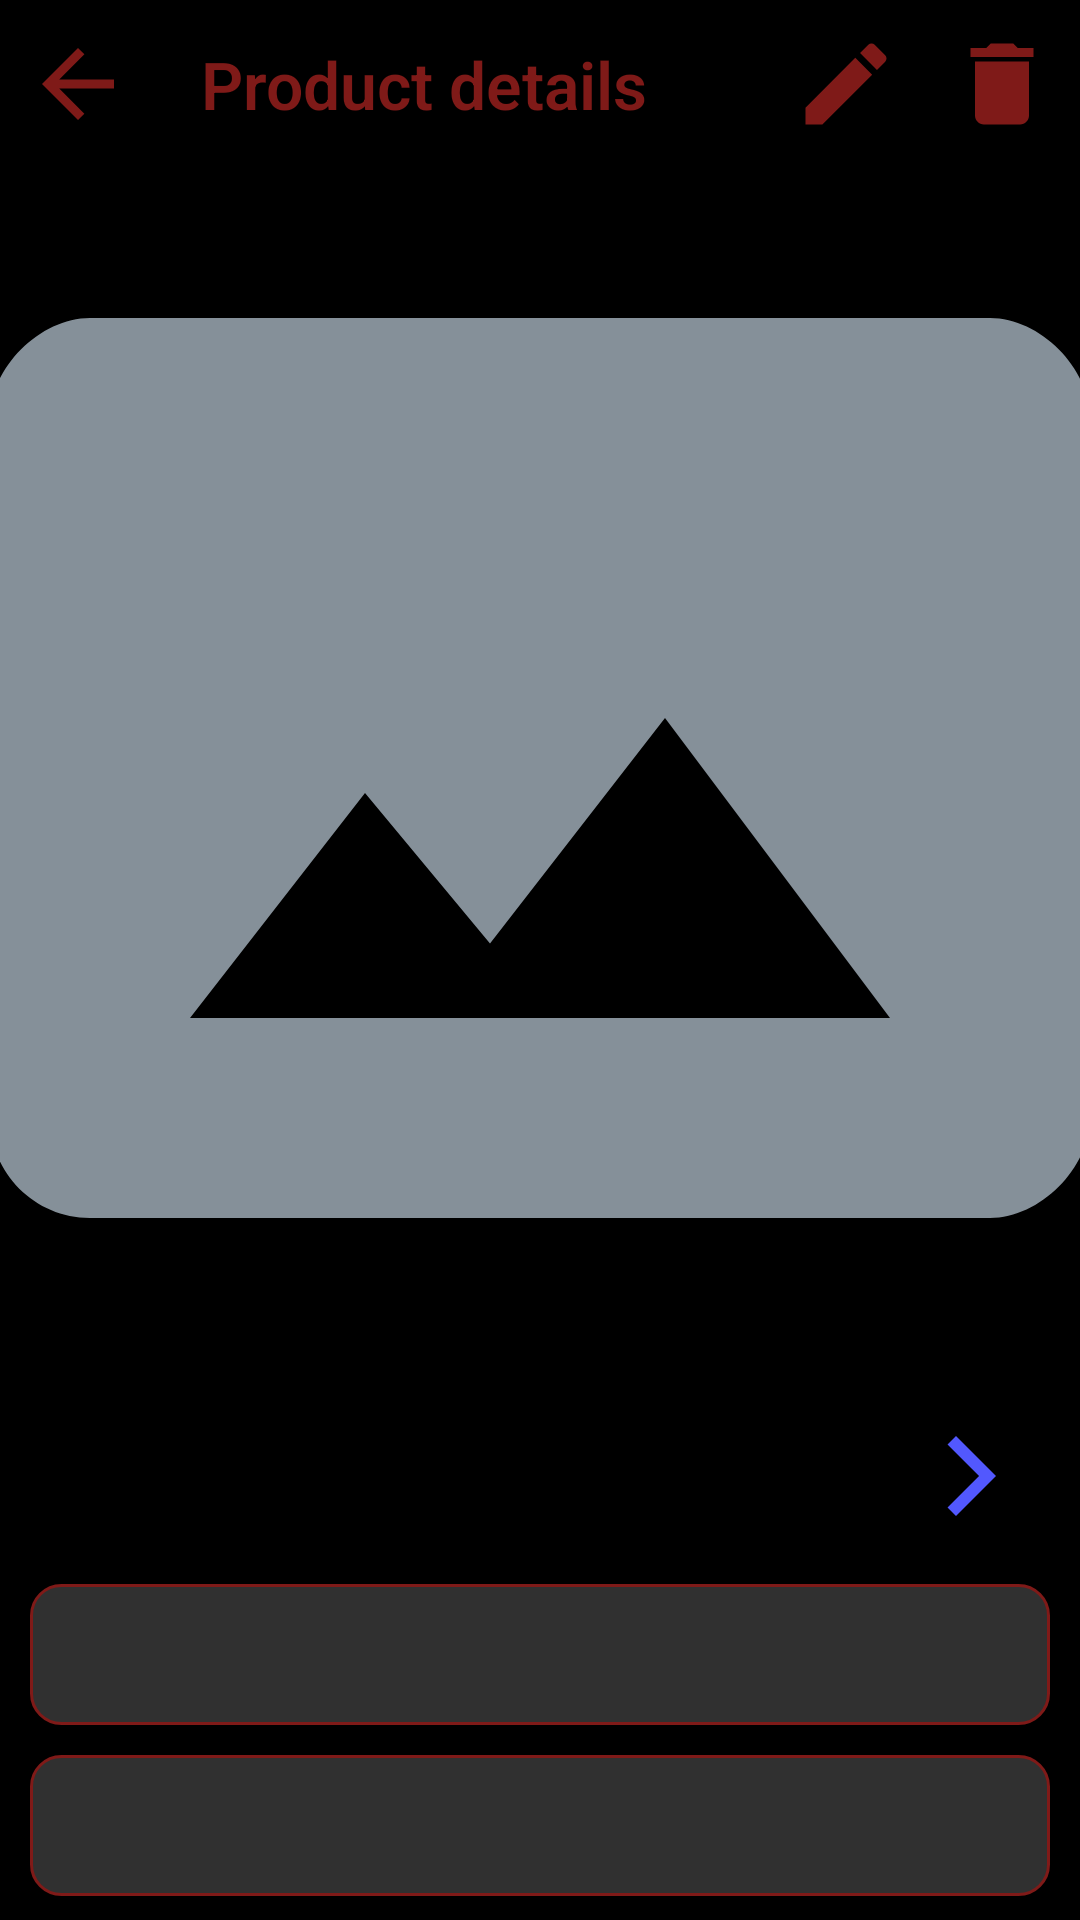

Point at icon controls on the screen. Image size 1080 × 1920, points as (x,y).
arrow back: (78,84)
delete: (1002,84)
edit: (846,84)
